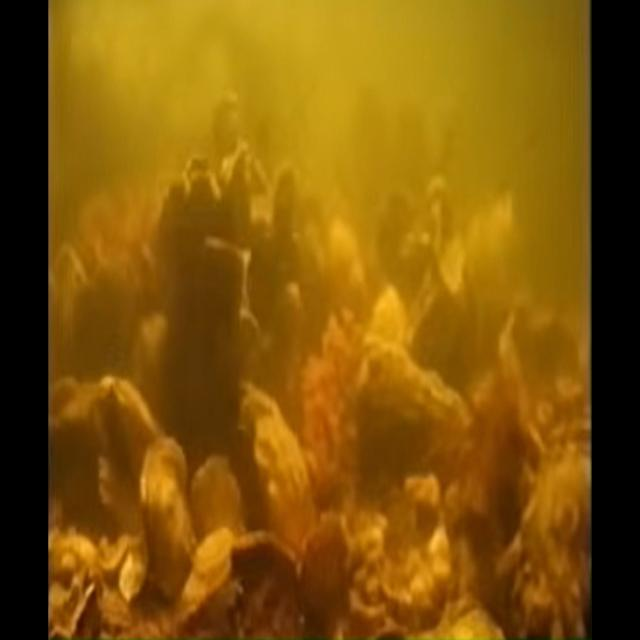Oyster- Indeterminate: (160, 236, 251, 434), (238, 377, 311, 545), (356, 351, 434, 493), (144, 442, 198, 596), (98, 374, 158, 483), (172, 528, 235, 627), (294, 510, 339, 640), (231, 532, 302, 593), (191, 453, 240, 532), (409, 611, 502, 640)
